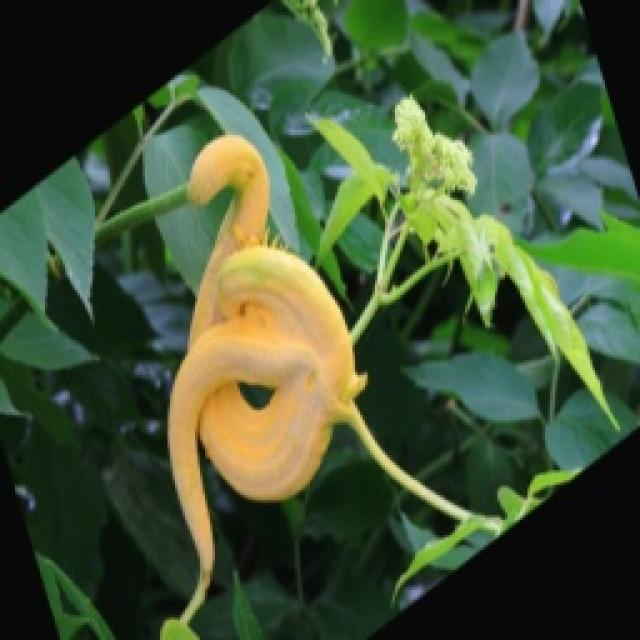Elderberry_rust: (168, 136, 356, 594)
